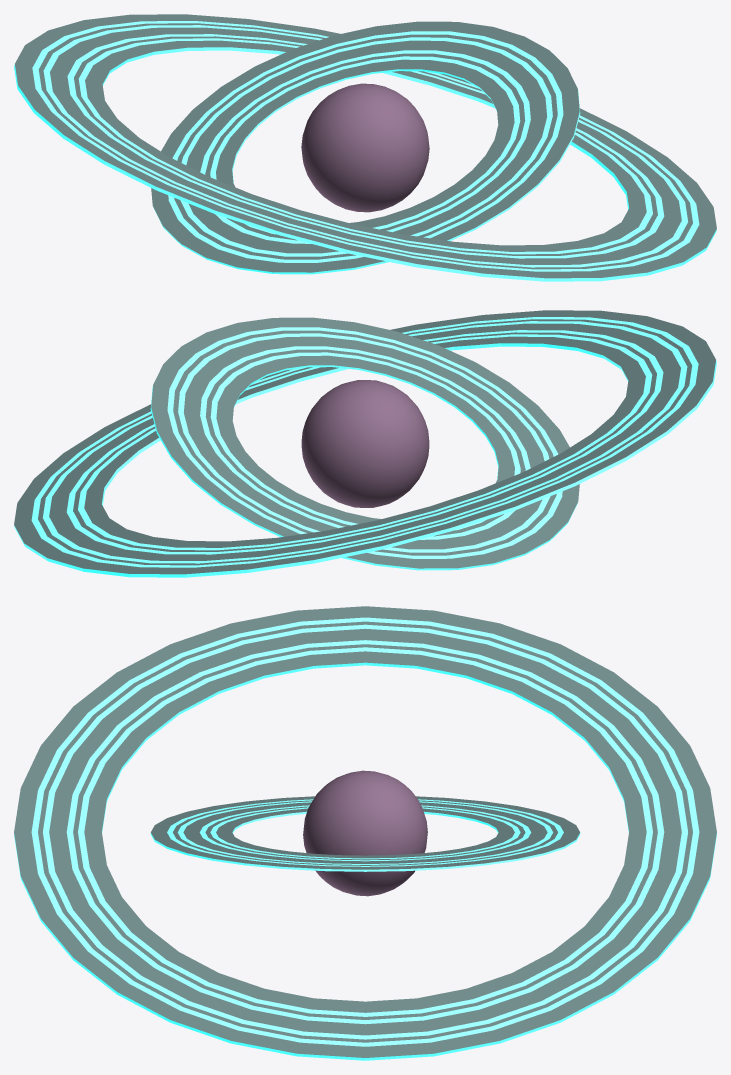
File: Planet_Rings.fbx
3 renders of one model, top to bottom at view 1: azimuth 30°, elevation 25°; view 2: azimuth 150°, elevation 25°; view 3: azimuth 270°, elevation 25°, orthographic. The views are drawn at different scales.
Parts seen in each view (by area): view 1: Circle.001, Circle, Cube.001; view 2: Circle.001, Circle, Cube.001; view 3: Circle.001, Circle, Cube.001.
Boxes of the visible parts, <box> form: Circle.001: <box>14,14,716,281</box>; Circle: <box>151,21,580,274</box>; Cube.001: <box>301,83,429,212</box>; Circle.001: <box>14,310,716,577</box>; Circle: <box>150,317,579,570</box>; Cube.001: <box>301,380,429,507</box>; Circle.001: <box>14,606,716,1060</box>; Circle: <box>150,796,580,871</box>; Cube.001: <box>303,770,427,896</box>.
Size of the model in its own units: 1138 by 310 by 1177.
